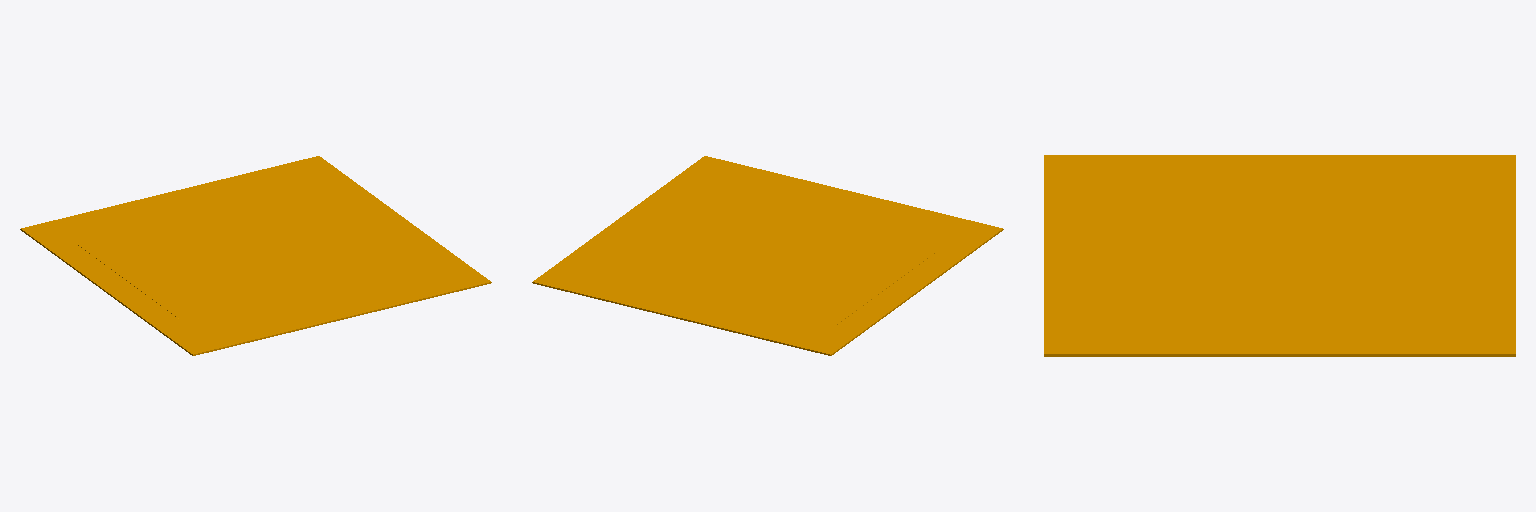
The robot description file, URDF, robot "aruco":
<?xml version="1.0" ?>
<robot name="aruco">
  <link name="arucoLink">
  <contact>
      <lateral_friction value="1"/>
  </contact>
    <inertial>
      <origin rpy="0 0 0" xyz="0 0 0"/>
       <mass value=".0"/>
       <inertia ixx="0" ixy="0" ixz="0" iyy="0" iyz="0" izz="0"/>
    </inertial>
    <visual>
      <origin rpy="1.570796 0 0" xyz="0 0 0"/>
      <geometry>
				<mesh filename="calibration_panda.obj" scale="1 1 1"/>
      </geometry>
    </visual>
    <collision>
      <origin rpy="1.570796 0 0" xyz="0 0 0"/>
      <geometry>
		<mesh filename="calibration_panda.obj" scale="1 1 1"/>
      </geometry>
    </collision>
  </link>
</robot>

--- Facts derived from the render (not from the file) ---
The picture shows the robot from 3 angles, left to right: view 1: azimuth 30°, elevation 25°; view 2: azimuth 150°, elevation 25°; view 3: azimuth 270°, elevation 25°; orthographic projection.
Robot: aruco — 1 links, 0 joints (none); root link arucoLink; default pose: every joint at zero.
Visible links, largest first — view 1: arucoLink; view 2: arucoLink; view 3: arucoLink.
Boxes of the visible links, x1,y1,x2,y2 form: arucoLink: (20, 156, 491, 355); arucoLink: (532, 156, 1003, 355); arucoLink: (1044, 155, 1515, 356).
Bounding box of the posed robot: 0.2 × 0.2 × 0.0011 m (x, y, z).
Meshes: 1 distinct files referenced, 1 mesh visuals loaded (1 OBJ).